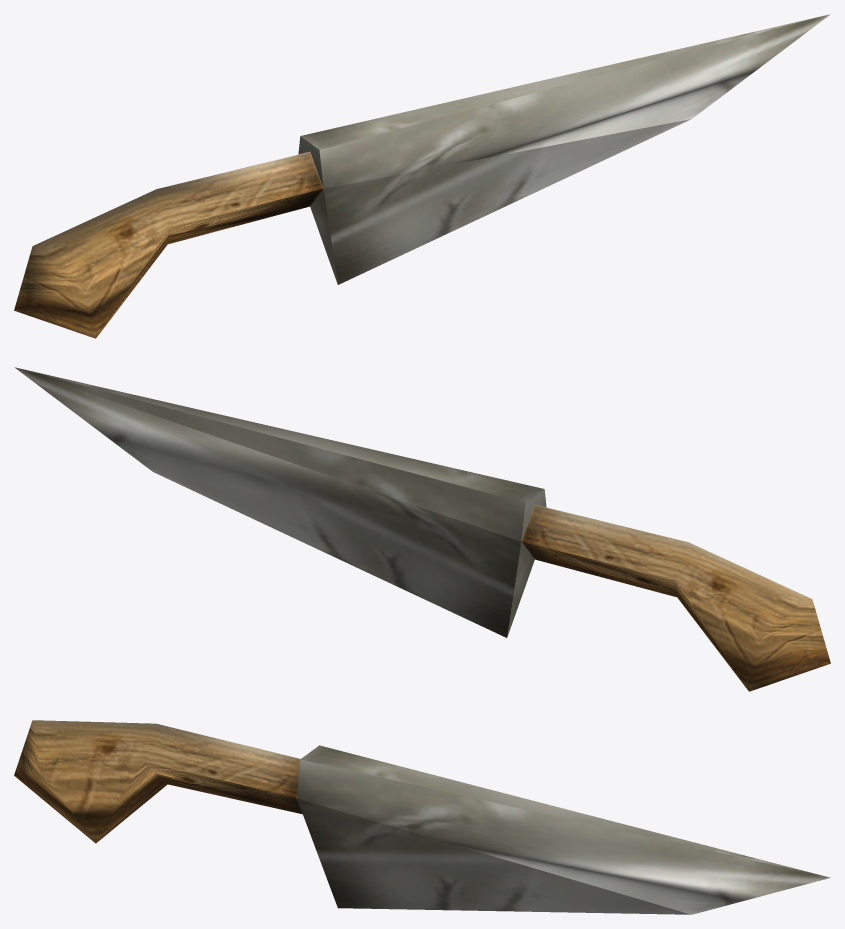
File: kitchenknife01.obj
3 renders of one model, top to bottom at view 1: azimuth 30°, elevation 25°; view 2: azimuth 150°, elevation 25°; view 3: azimuth 330°, elevation 25°, orthographic.
Parts seen in each view (by area): view 1: kitchenknife01; view 2: kitchenknife01; view 3: kitchenknife01.
Part boxes in pixels (x1=…): kitchenknife01: x1=14, y1=14, x2=830, y2=338; kitchenknife01: x1=14, y1=367, x2=830, y2=691; kitchenknife01: x1=14, y1=720, x2=830, y2=914.
Size of the model in its own units: 1.14 by 0.2007 by 0.1012.
1 material, 1 textured.
